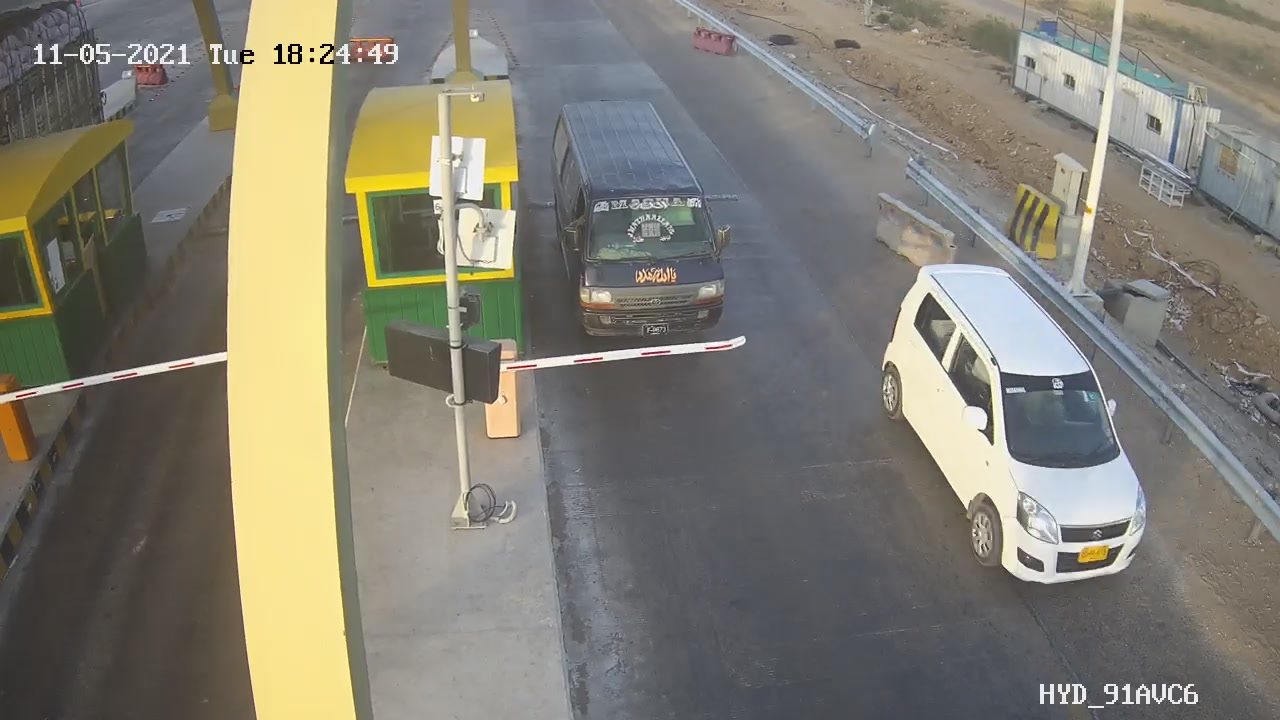F1: (871, 255, 1168, 599)
F2: (552, 97, 733, 348)
